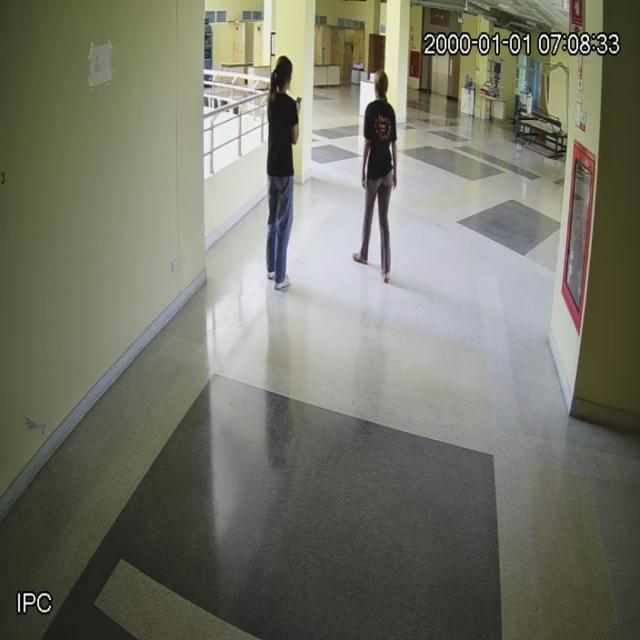normal: (354, 68, 406, 284), (262, 55, 305, 293)
